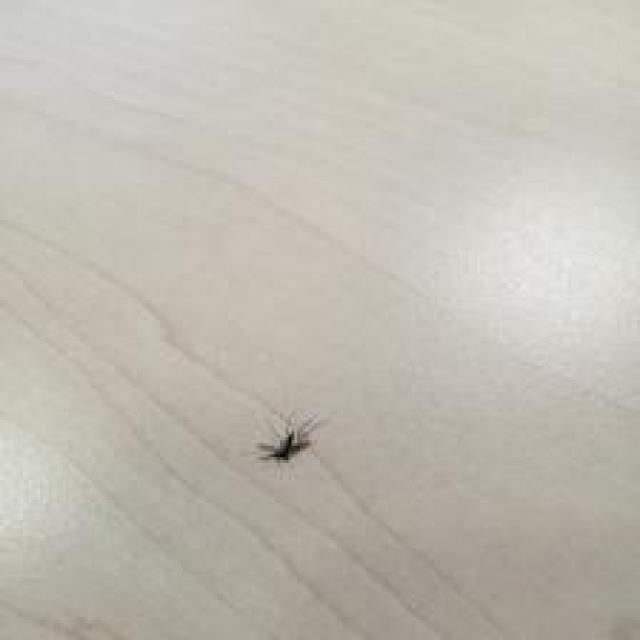Aedes albopictus: (256, 410, 321, 464)
